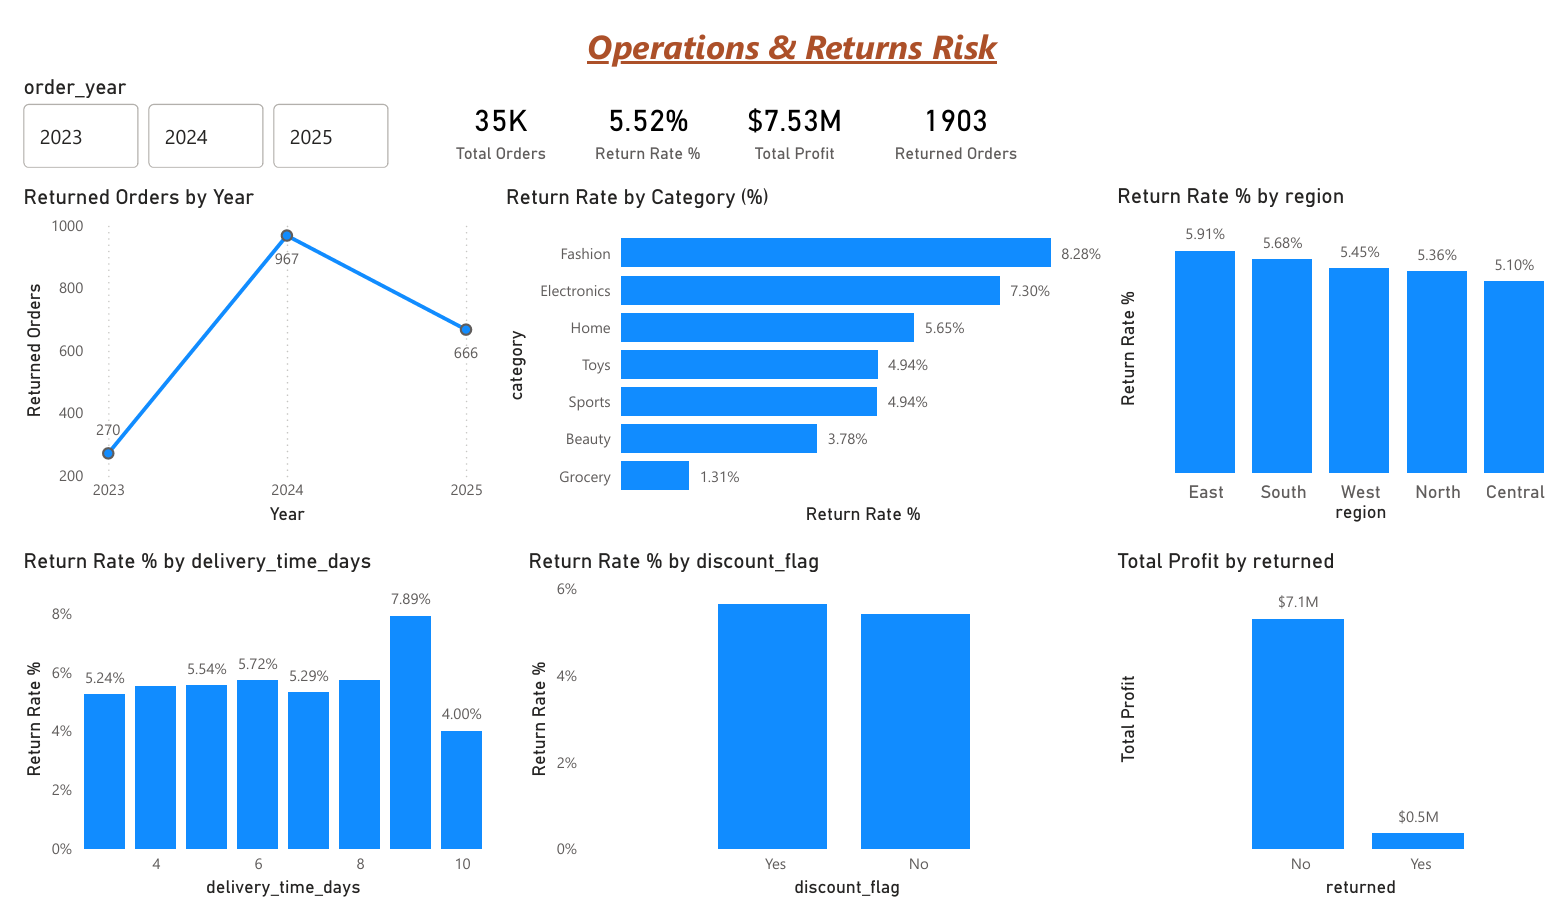

What the dashboard file says about the page in this screenshot:
{"tool":"powerbi","page":{"name":"Operations & Returns Risk","canvas":[1280,720],"ordinal":2},"visuals":[{"type":"advancedSlicerVisual","fields":{"Values":["orders.order_year"]},"box":[9.3,55.8,302.3,81.4],"z":0},{"type":"card","fields":{"Values":["orders.Total Orders"]},"box":[337.2,64,117.4,70.9],"z":1000},{"type":"card","fields":{"Values":["orders.Returned Orders"]},"box":[1164,153.5,116.3,68.6],"z":4000},{"type":"lineChart","fields":{"Category":["orders.order_month_date.Variation.Date Hierarchy.Year","orders.order_month_date.Variation.Date Hierarchy.Quarter","orders.order_month_date.Variation.Date Hierarchy.Month","orders.order_month_date.Variation.Date Hierarchy.Day"],"Y":["orders.Returned Orders"]},"box":[9.3,144.2,376.7,276.7],"z":5000},{"type":"clusteredBarChart","title":"Return Rate by Category (%)","fields":{"Category":["orders.category"],"Y":["orders.Return Rate %"]},"box":[395.3,144.2,488.4,276.7],"z":6000},{"type":"columnChart","fields":{"Y":["orders.Return Rate %"],"Category":["orders.region"]},"box":[883.7,143,377.9,276.7],"z":7000},{"type":"columnChart","fields":{"Y":["orders.Return Rate %"],"Category":["orders.delivery_time_days"]},"box":[9.3,434.9,376.7,284.9],"z":8000},{"type":"columnChart","fields":{"Y":["orders.Return Rate %"],"Category":["orders.discount_flag"]},"box":[412.8,434.9,470.9,284.9],"z":9000},{"type":"columnChart","fields":{"Category":["orders.returned"],"Y":["orders.Total Profit"]},"box":[883.7,434.9,377.9,284.9],"z":10000},{"type":"card","fields":{"Values":["orders.Returned Orders"]},"box":[701.2,64,117.4,70.9],"z":10001},{"type":"card","fields":{"Values":["orders.Total Profit"]},"box":[572.1,64,117.4,70.9],"z":10002},{"type":"card","fields":{"Values":["orders.Return Rate %"]},"box":[454.7,64,117.4,70.9],"z":10003},{"type":"textbox","box":[197.7,10.5,862.8,53.5],"z":10005}]}

Visuals, with their boxes on the page's 1280x720 design canvas (x1, y1, x2, y2). These are canvas units, not pixel positions in the 1566x913 screenshot, which may show the page scaled, cropped or inside an application window:
advancedSlicerVisual - orders.order_year: locate(9, 56, 312, 137)
card - orders.Total Orders: locate(337, 64, 455, 135)
card - orders.Returned Orders: locate(1164, 154, 1280, 222)
lineChart - orders.order_month_date.Variation.Date Hierarchy.Year x orders.order_month_date.Variation.Date Hierarchy.Quarter: locate(9, 144, 386, 421)
"Return Rate by Category (%)" clusteredBarChart: locate(395, 144, 884, 421)
columnChart - orders.Return Rate % x orders.region: locate(884, 143, 1262, 420)
columnChart - orders.Return Rate % x orders.delivery_time_days: locate(9, 435, 386, 720)
columnChart - orders.Return Rate % x orders.discount_flag: locate(413, 435, 884, 720)
columnChart - orders.returned x orders.Total Profit: locate(884, 435, 1262, 720)
card - orders.Returned Orders: locate(701, 64, 819, 135)
card - orders.Total Profit: locate(572, 64, 690, 135)
card - orders.Return Rate %: locate(455, 64, 572, 135)
textbox: locate(198, 10, 1060, 64)
